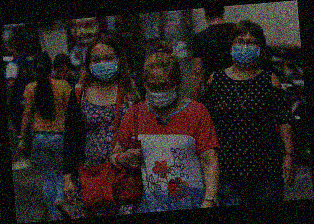with_mask: (145, 78, 179, 109), (89, 51, 121, 82), (231, 35, 262, 67)
without_mask: (55, 67, 71, 81)
